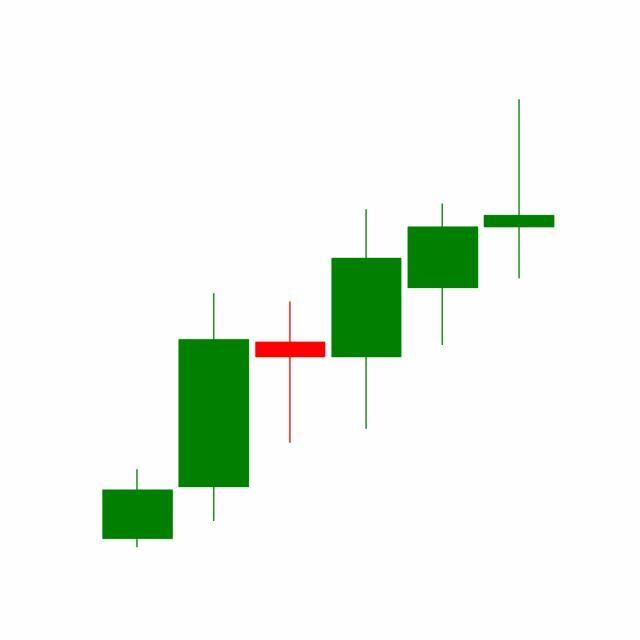Advance Block: (326, 99, 555, 434)
